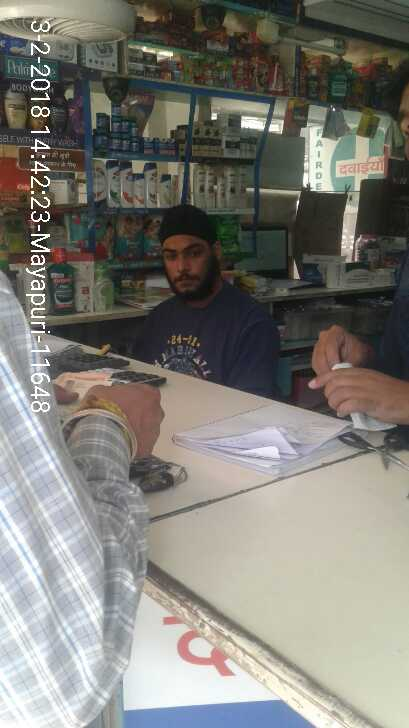vicks: (97, 100, 184, 157)
